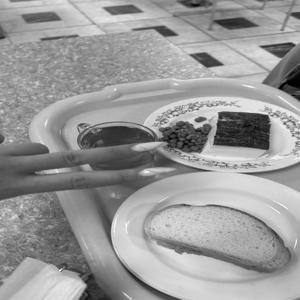bread: (130, 179, 298, 281)
casserole: (165, 97, 283, 163)
